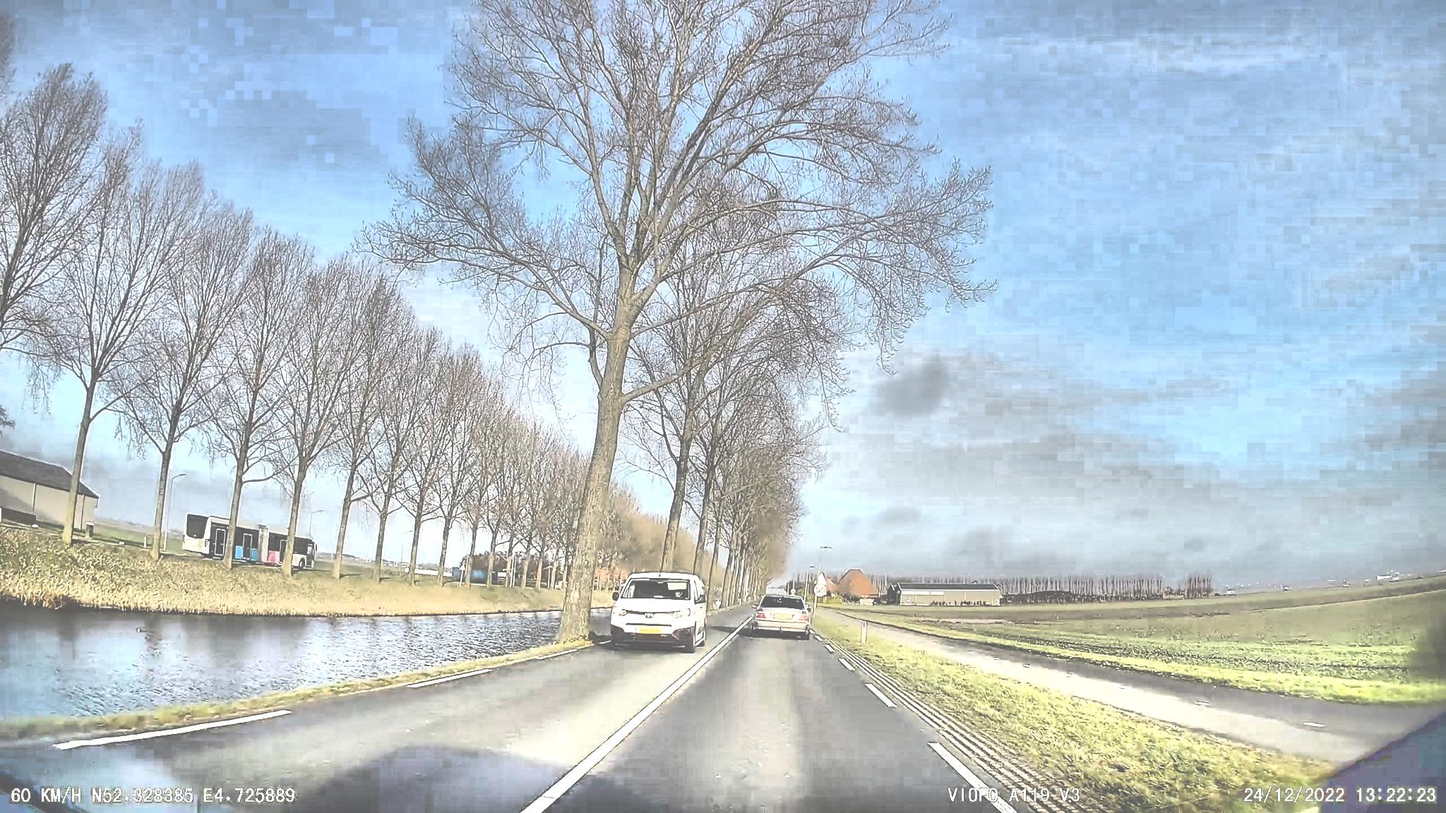Roads: (0, 611, 1000, 813)
